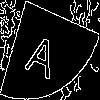A: (24, 24, 63, 81)
